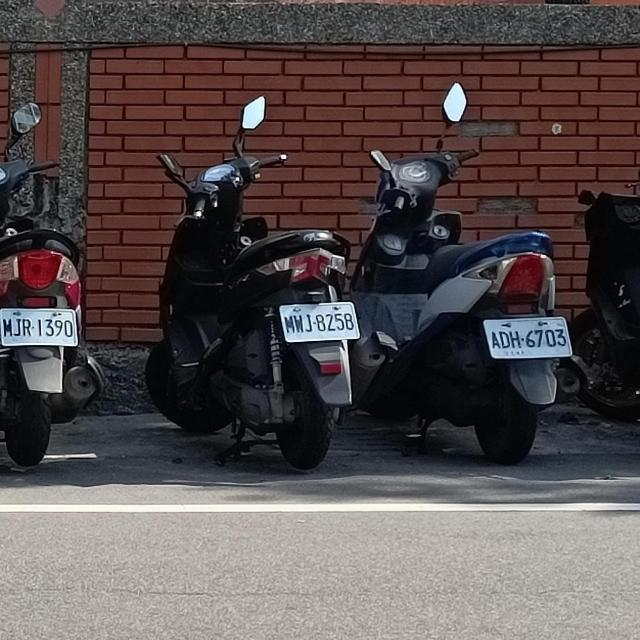W: (476, 313, 573, 362), (275, 299, 361, 344), (0, 306, 79, 348)
